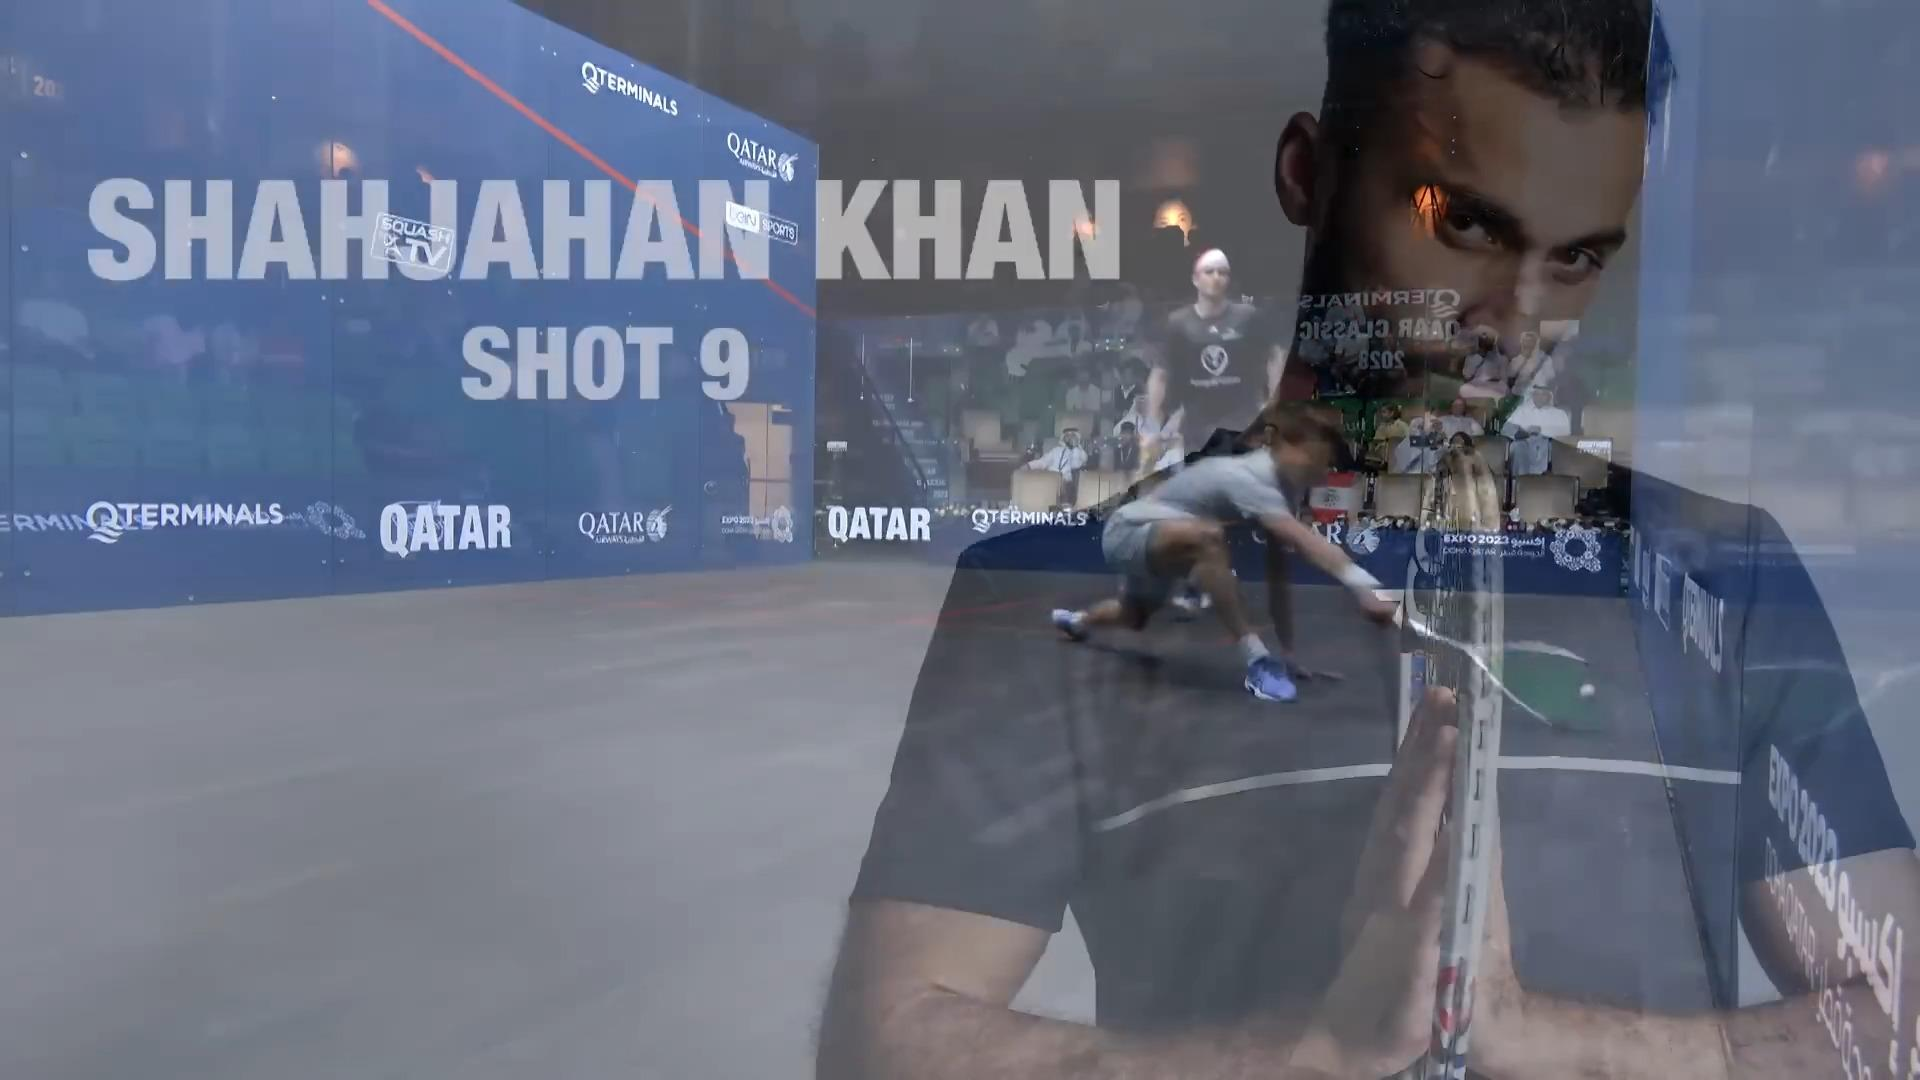Racket: (1414, 616, 1590, 733)
